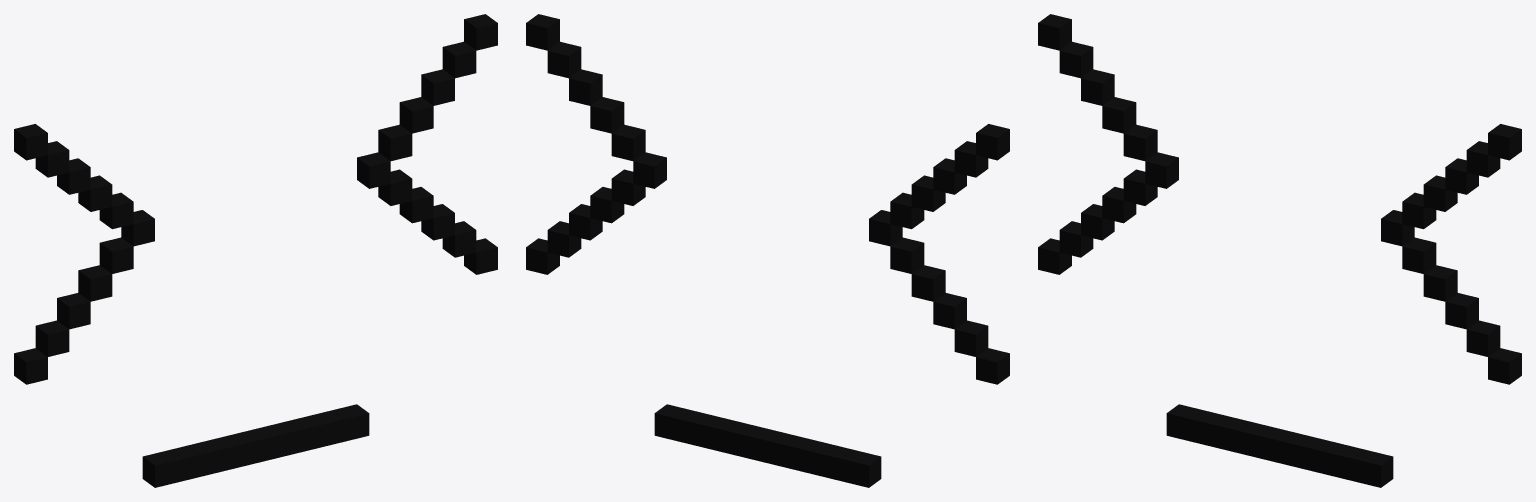
Rendered from Pain.fbx.
The picture shows the model from 3 angles, left to right: view 1: azimuth 30°, elevation 25°; view 2: azimuth 150°, elevation 25°; view 3: azimuth 330°, elevation 25°; orthographic projection.
Visible parts, largest first — view 1: PainFace; view 2: PainFace; view 3: PainFace.
Part boxes in pixels (x1,y1,x2,y2): PainFace: (14, 14, 497, 487); PainFace: (526, 14, 1009, 487); PainFace: (1038, 14, 1521, 487).
Bounding box in the file's own units: 220 × 10 × 170.
Materials: 1 (1 with a texture image).
